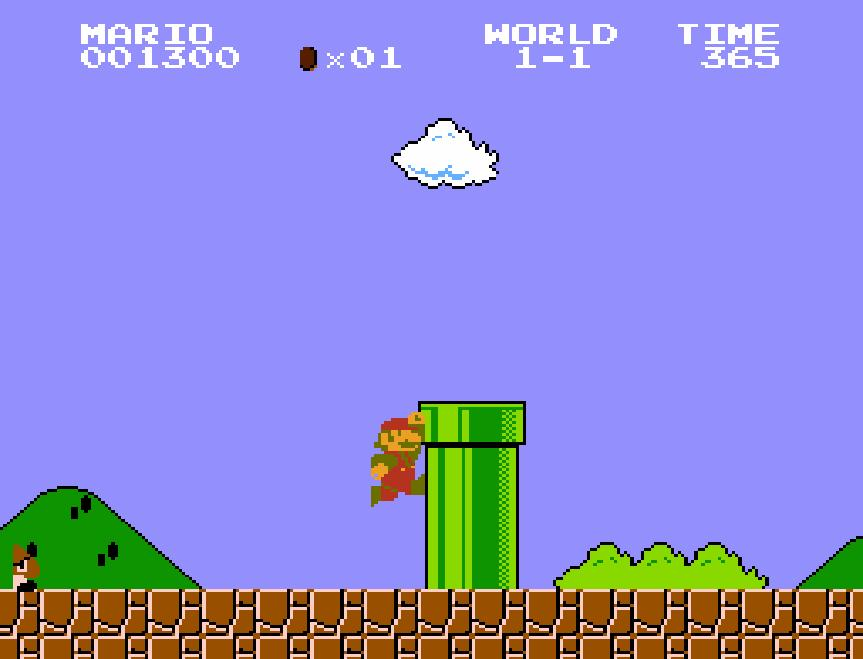big_mario: (372, 410, 430, 508)
